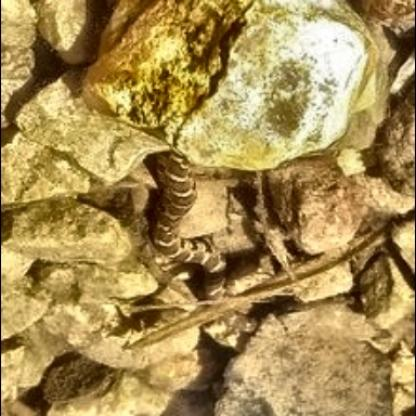Snake: (147, 152, 263, 336)
